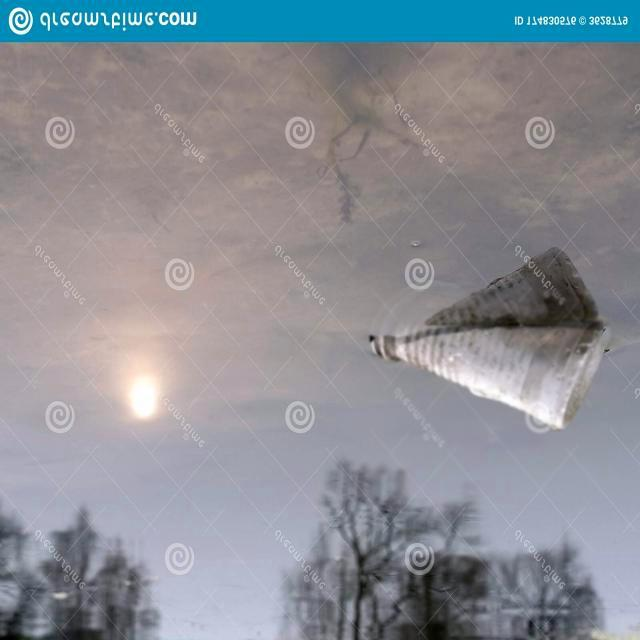Metal: (362, 317, 609, 434)
